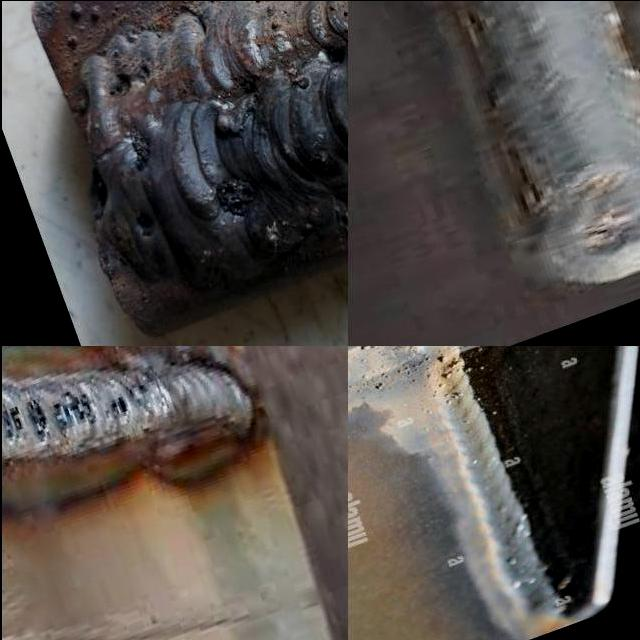defect: (49, 384, 98, 445), (430, 346, 464, 406), (212, 174, 251, 221), (105, 59, 150, 99), (22, 391, 50, 443), (126, 125, 152, 175), (0, 400, 25, 446), (394, 352, 430, 382), (104, 391, 128, 428), (135, 206, 157, 239), (324, 42, 346, 72), (373, 381, 390, 392), (359, 372, 371, 381), (358, 345, 374, 351), (379, 371, 389, 378)
